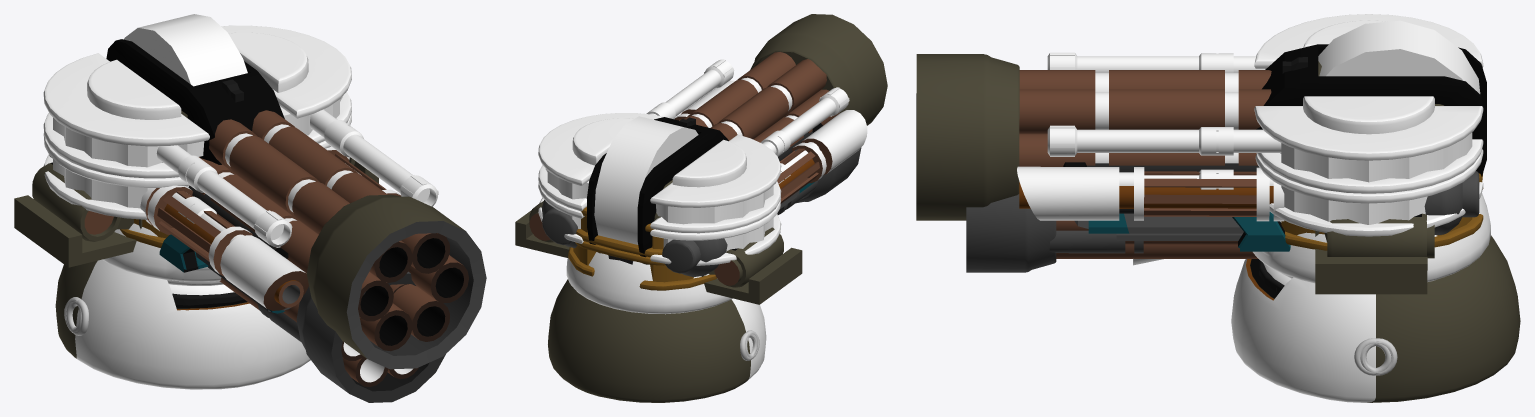
File: Level_1_Turrets.fbx
The picture shows the model from 3 angles, left to right: view 1: azimuth 30°, elevation 25°; view 2: azimuth 150°, elevation 25°; view 3: azimuth 270°, elevation 25°; orthographic projection. The views are drawn at different scales.
Parts seen in each view (by area): view 1: Cylinder_008, turret_3_003, turret_1_001_1, Turret_04, turret_2_002, Cylinder_001, Cylinder_019, Sphere_001, Turret_08, Cylinder_005, Cylinder_007, Cylinder_002; view 2: Cylinder_008, Turret_04, turret_3_003, Sphere_001, turret_2_002, Cylinder_001, Cylinder_007, Turret_06, turret_1_001_1, Cylinder_019; view 3: Cylinder_008, turret_3_003, Turret_04, turret_1_001_1, turret_2_002, Cylinder_001, Cylinder_019, Sphere_001, Cylinder_010, Cylinder_002, Turret_06, Turret_08 (+3 smaller).
Part boxes in pixels (<box>): Cylinder_008: <box>43,14,351,305</box>; turret_3_003: <box>199,110,486,369</box>; turret_1_001_1: <box>66,259,310,389</box>; Turret_04: <box>14,110,378,358</box>; turret_2_002: <box>140,146,400,310</box>; Cylinder_001: <box>156,109,438,247</box>; Cylinder_019: <box>219,271,445,402</box>; Sphere_001: <box>102,223,234,295</box>; Turret_08: <box>159,234,208,272</box>; Cylinder_005: <box>188,185,288,258</box>; Cylinder_007: <box>120,219,168,247</box>; Cylinder_002: <box>258,304,301,342</box>; Cylinder_008: <box>538,113,781,265</box>; Turret_04: <box>515,180,802,402</box>; turret_3_003: <box>684,14,887,147</box>; Sphere_001: <box>566,252,732,314</box>; turret_2_002: <box>675,80,867,203</box>; Cylinder_001: <box>646,59,849,183</box>; Cylinder_007: <box>568,207,716,290</box>; Turret_06: <box>542,200,727,276</box>; turret_1_001_1: <box>731,298,766,380</box>; Cylinder_019: <box>796,148,861,203</box>; Cylinder_008: <box>1254,14,1486,293</box>; turret_3_003: <box>916,54,1271,220</box>; Turret_04: <box>1250,61,1520,402</box>; turret_1_001_1: <box>1231,259,1391,402</box>; turret_2_002: <box>1017,166,1284,221</box>; Cylinder_001: <box>1047,52,1281,189</box>; Cylinder_019: <box>966,194,1258,272</box>; Sphere_001: <box>1253,193,1490,285</box>; Cylinder_010: <box>1074,213,1243,233</box>; Cylinder_002: <box>1049,230,1237,253</box>; Turret_06: <box>1424,171,1479,234</box>; Turret_08: <box>1232,212,1290,251</box>.
Bounding box in the file's own units: 303 × 282 × 495.
